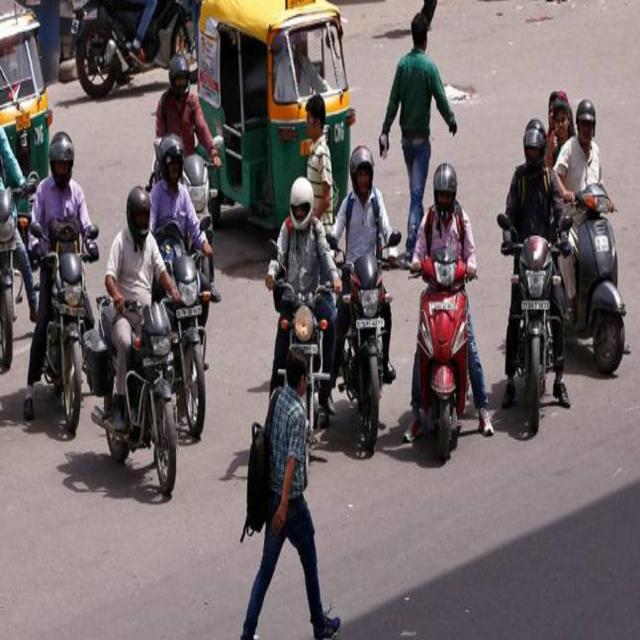autorickshaw: (198, 0, 354, 229)
motorcycle: (84, 187, 180, 496), (404, 162, 494, 460), (498, 118, 571, 431), (24, 131, 99, 433), (545, 93, 626, 372), (330, 144, 401, 452), (265, 178, 341, 430), (150, 133, 212, 438), (72, 0, 198, 98)
